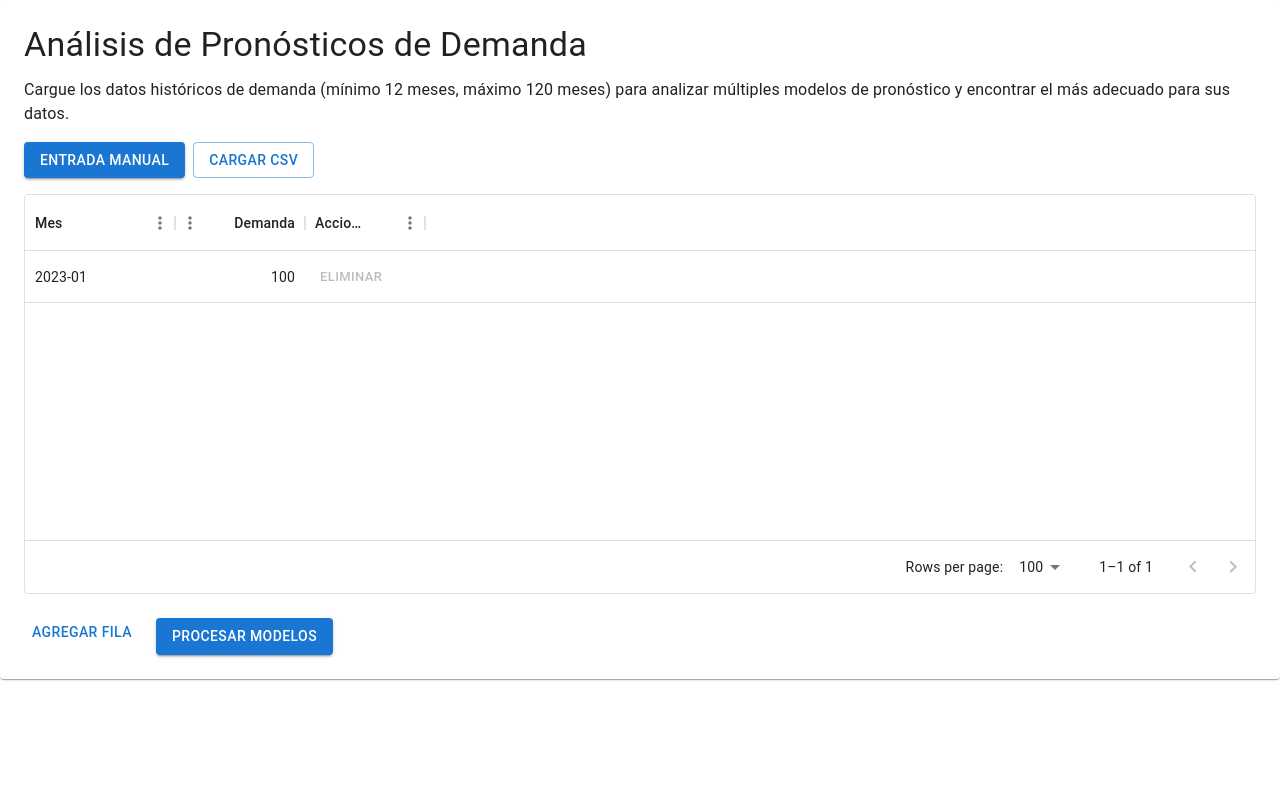
Test case: Responsive Design Tests › Component Interactions › Components maintain functionality
The image size is (1280, 800).
Expected: the button "Entrada Manual" is shown, [24,142,185,178]
// Test interaction
Click the button "Cargar CSV" at (254, 160), box [193,142,314,178]
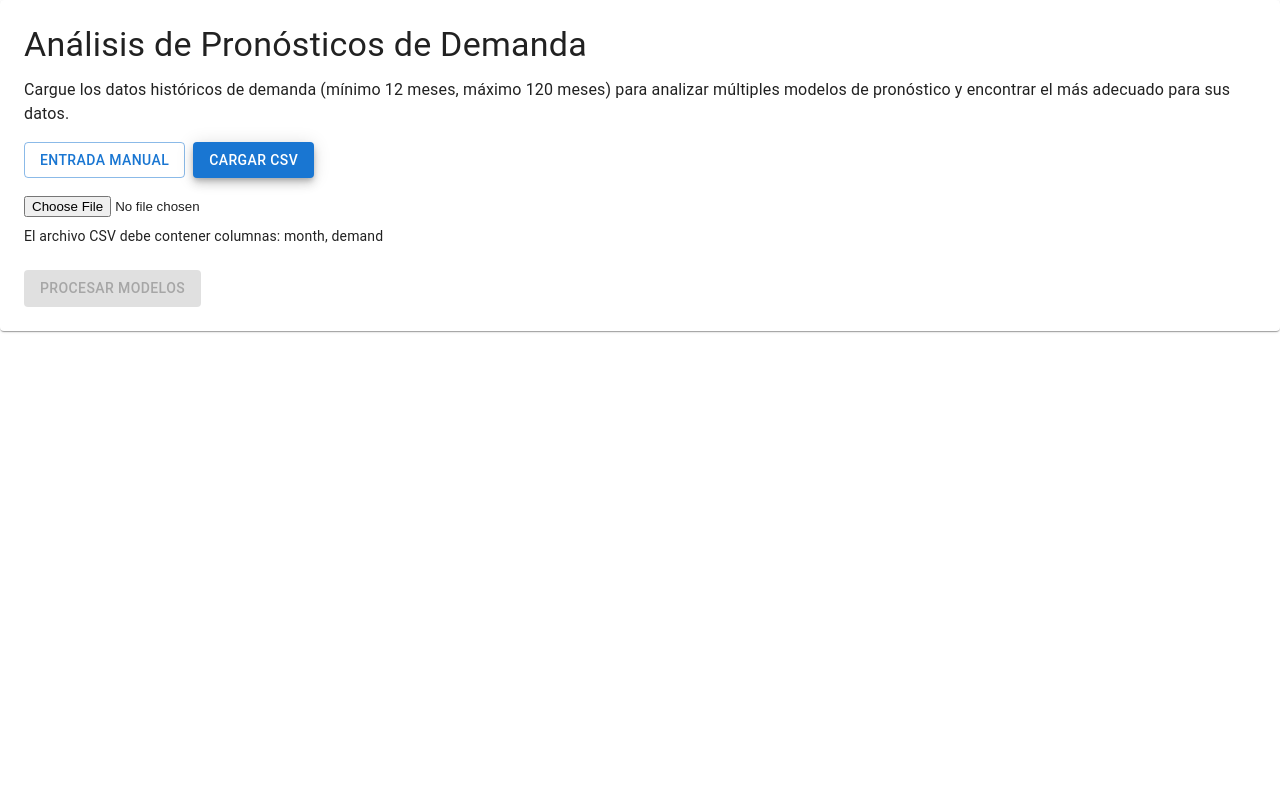
Result: the text "El archivo CSV debe contener columnas: month, demand" is shown at [24,228,383,244]
